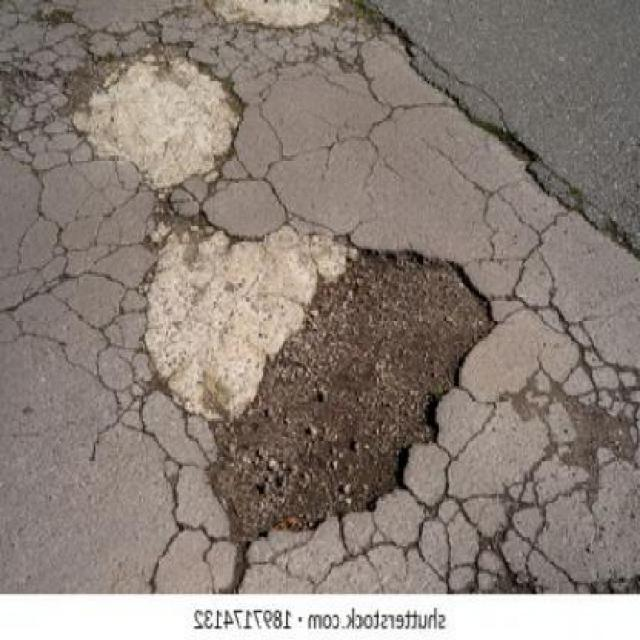pothole: (139, 220, 496, 543), (63, 41, 246, 186), (197, 0, 350, 32)
